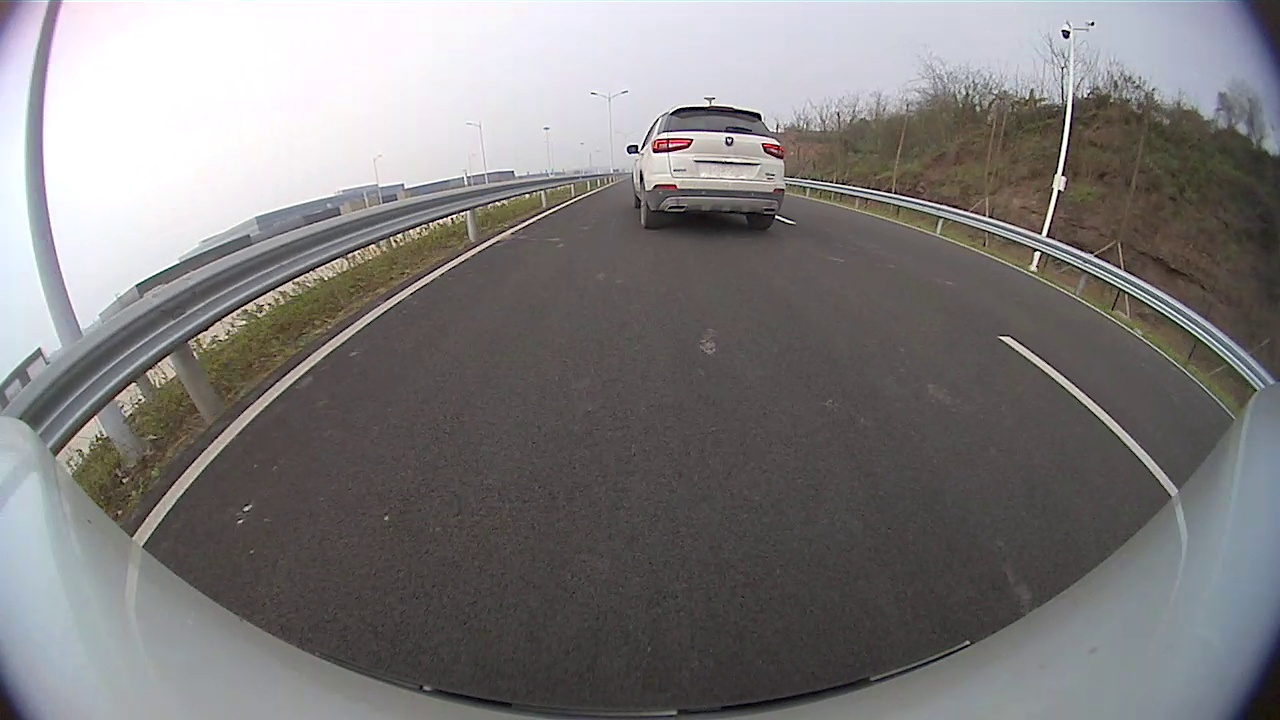car: (624, 103, 786, 232)
rear: (639, 181, 663, 233)
